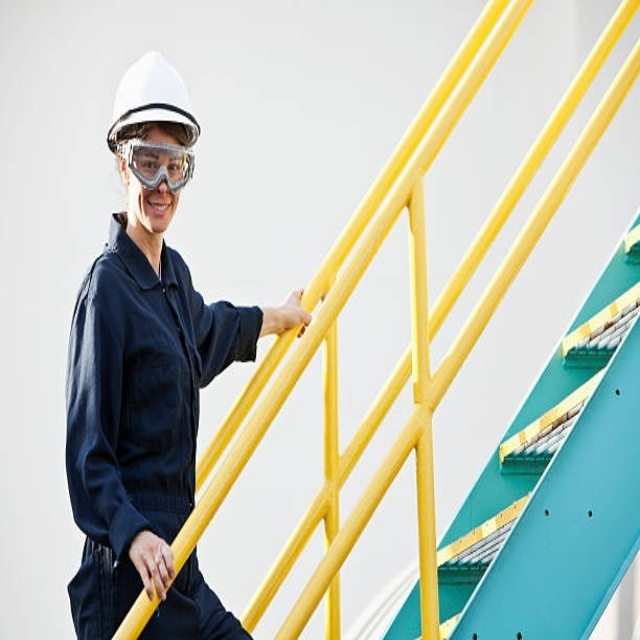Gafas: (117, 142, 197, 194)
Sin_guantes: (130, 528, 177, 603), (273, 282, 314, 337)
Sin_mascara: (142, 195, 174, 227)
